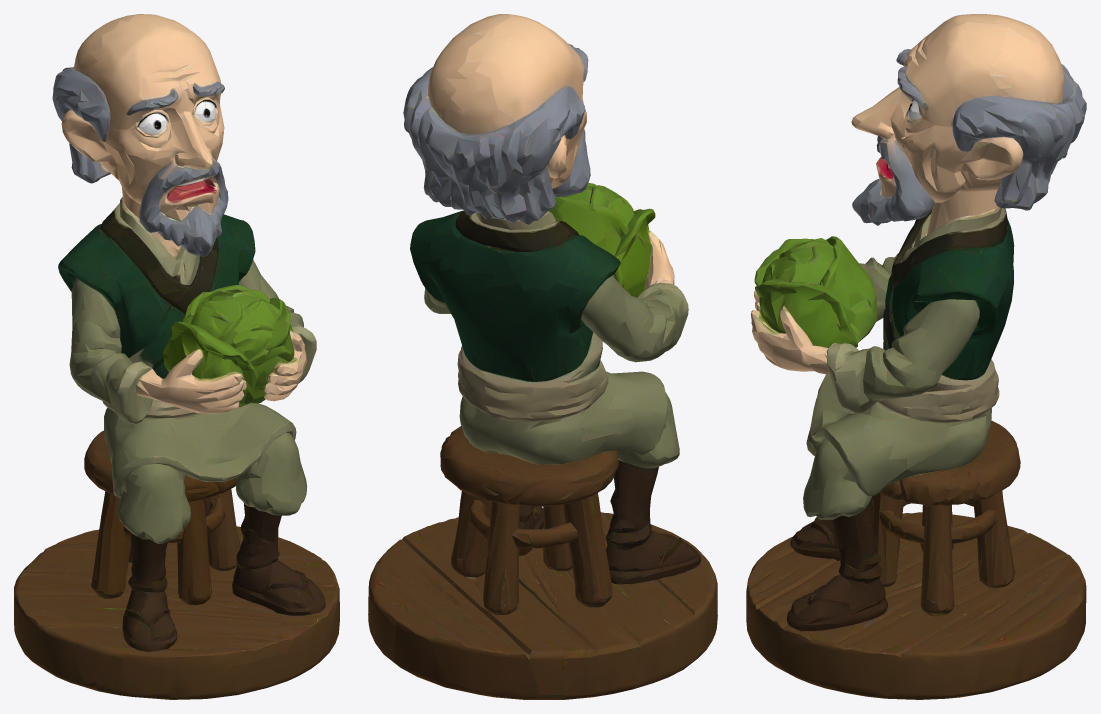
The model's file is chou2.glb.
3 views of the same model, side by side, from view 1: azimuth 30°, elevation 25°; view 2: azimuth 150°, elevation 25°; view 3: azimuth 270°, elevation 25° (orthographic). The views are drawn at different scales.
Visible parts, largest first — view 1: Mesh_0; view 2: Mesh_0; view 3: Mesh_0.
Boxes of the visible parts, x1,y1,x2,y2 form: Mesh_0: [14, 14, 339, 699]; Mesh_0: [368, 14, 717, 699]; Mesh_0: [746, 14, 1086, 699].
Bounding box in the file's own units: 0.9566 × 1.9 × 0.9582.
1 material, 1 textured.
